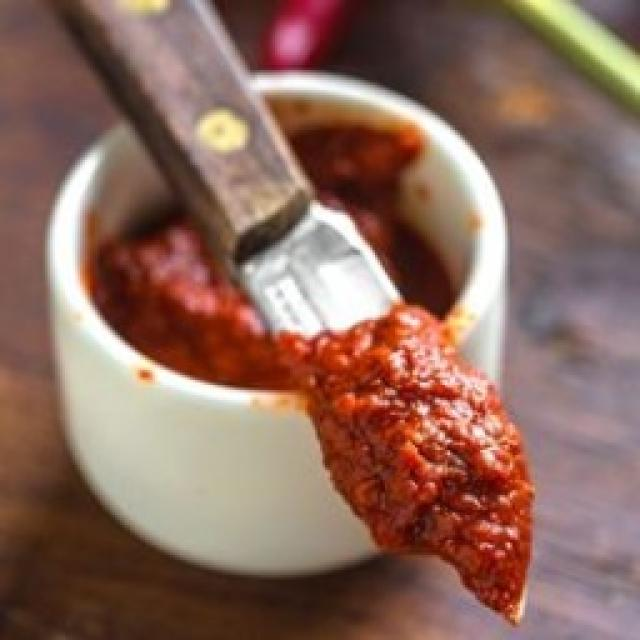Harissa: (92, 220, 534, 622), (291, 122, 431, 278)
